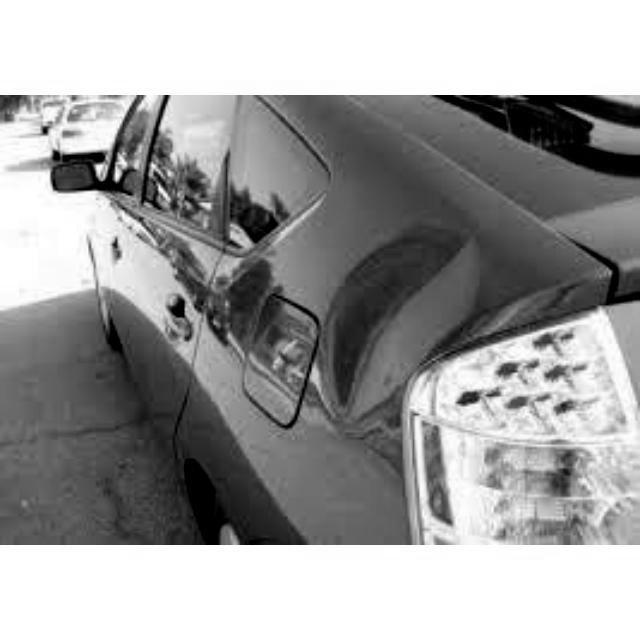quaterpanel-dent: (211, 213, 501, 543)
